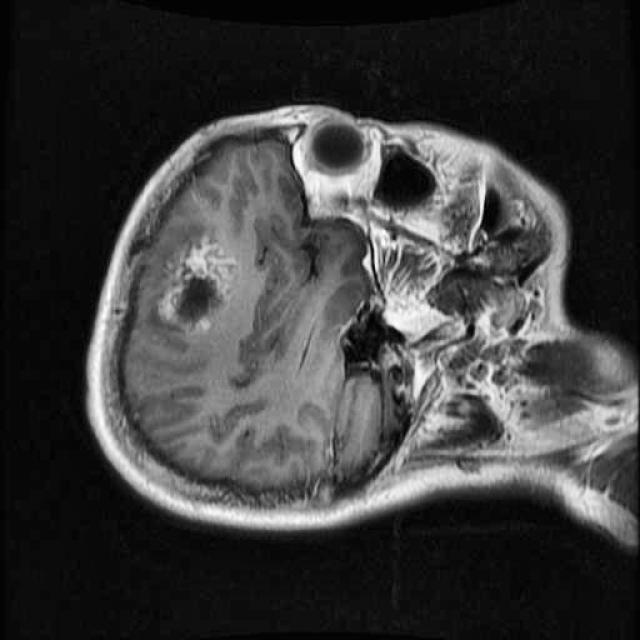Tumor: (147, 218, 251, 342)
